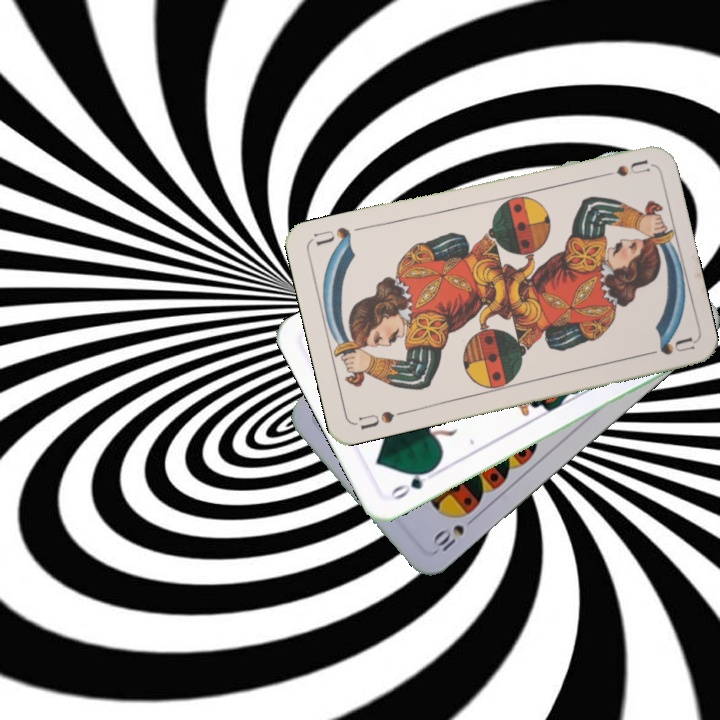GO: (386, 464, 437, 503)
S10: (428, 511, 480, 558)
SU: (352, 406, 410, 433), (592, 155, 652, 181)
